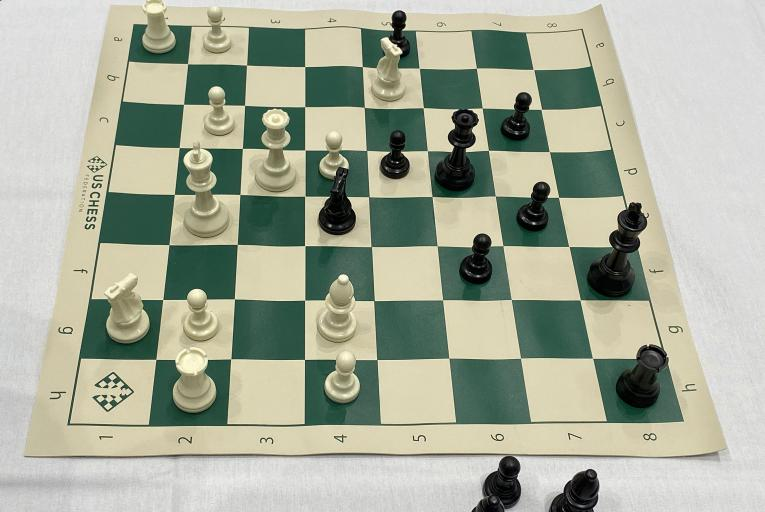black-king: (580, 197, 650, 302)
black-knight: (314, 167, 361, 238)
black-pawn: (459, 229, 501, 287), (512, 179, 553, 238), (495, 91, 538, 144), (377, 129, 414, 183), (381, 9, 417, 60)
black-queen: (434, 105, 482, 196)
black-rook: (612, 340, 670, 410)
white-bishop: (310, 270, 361, 345)
white-king: (177, 139, 236, 240)
white-knight: (95, 270, 153, 345), (362, 36, 412, 104)
white-pawn: (320, 348, 365, 408), (179, 288, 224, 345), (196, 1, 237, 58), (313, 130, 356, 184), (202, 85, 238, 143)
white-queen: (252, 107, 302, 193)
white-rook: (168, 347, 222, 417), (134, 1, 182, 57)
